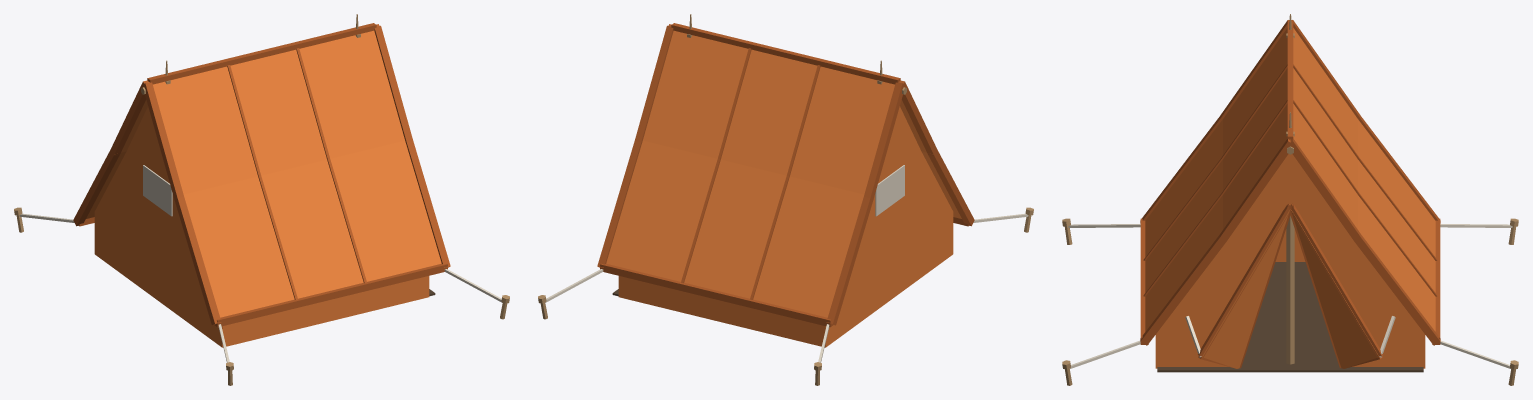
The picture shows the model from 3 angles, left to right: view 1: azimuth 30°, elevation 25°; view 2: azimuth 150°, elevation 25°; view 3: azimuth 270°, elevation 25°; orthographic projection. The views are drawn at different scales.
Parts seen in each view (by area): view 1: C03_geo; view 2: C03_geo; view 3: C03_geo.
Boxes of the visible parts, x1,y1,x2,y2 form: C03_geo: (14,14,509,385); C03_geo: (538,14,1033,385); C03_geo: (1062,14,1518,385).
Size of the model in its own units: 4.11 by 3.3 by 5.42.
